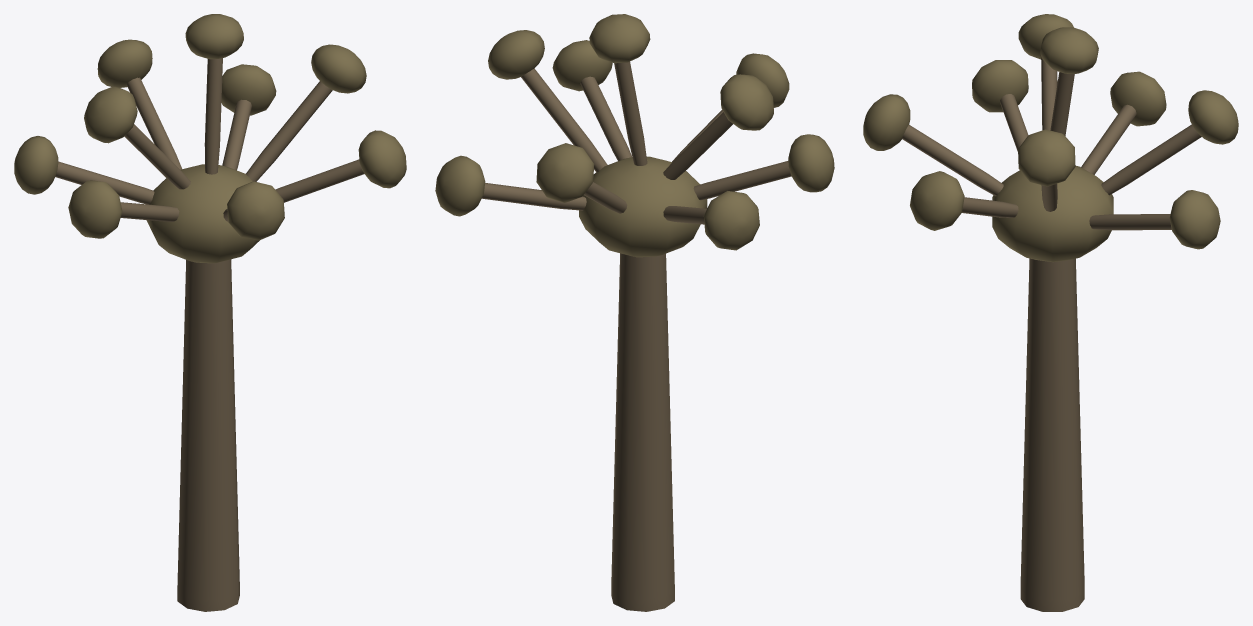
Rendered from stems with buds.fbx.
3 views of the same model, side by side, from view 1: azimuth 30°, elevation 25°; view 2: azimuth 150°, elevation 25°; view 3: azimuth 270°, elevation 25° (orthographic).
Parts seen in each view (by area): view 1: pasted__polySurface53, pasted__polySurface46; view 2: pasted__polySurface53, pasted__polySurface46; view 3: pasted__polySurface53, pasted__polySurface46.
Boxes of the visible parts, left/top/right/bottom form: pasted__polySurface53: left=55, top=58, right=364, bottom=611; pasted__polySurface46: left=14, top=14, right=406, bottom=263; pasted__polySurface53: left=482, top=61, right=791, bottom=611; pasted__polySurface46: left=435, top=14, right=834, bottom=257; pasted__polySurface53: left=902, top=57, right=1201, bottom=611; pasted__polySurface46: left=863, top=14, right=1238, bottom=262.
Bounding box in the file's own units: 17.82 × 31.41 × 18.57.
